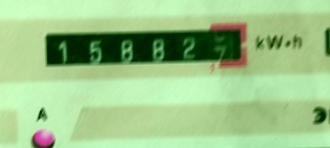1: (56, 37, 68, 64)
2: (180, 35, 196, 60)
5: (87, 38, 101, 64)
7: (211, 43, 226, 60)
8: (118, 37, 134, 62), (150, 36, 165, 62)
screen: (34, 17, 255, 79)
